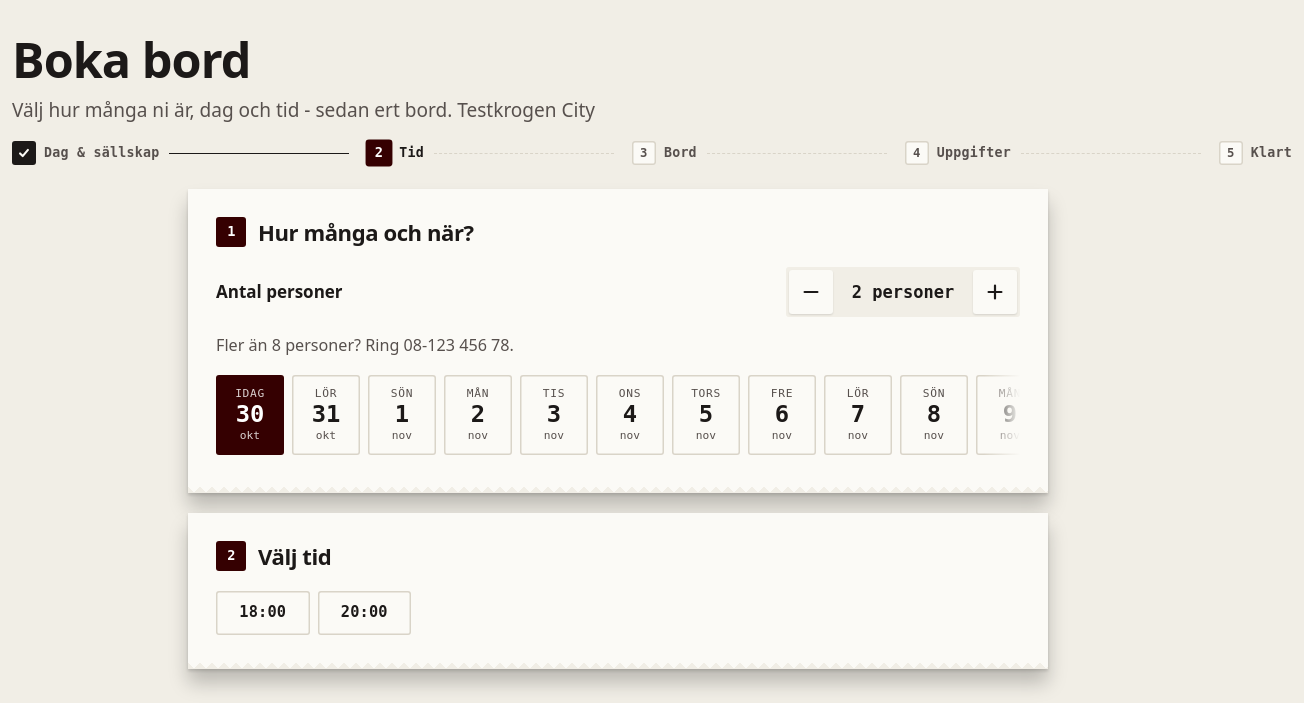
Test: BokaBordPage › asks to pick again when the table was just taken, with fresh availability
Select "3 personer" in the dropdown labelled "Antal personer" at (903, 292), box [839,270,967,314]
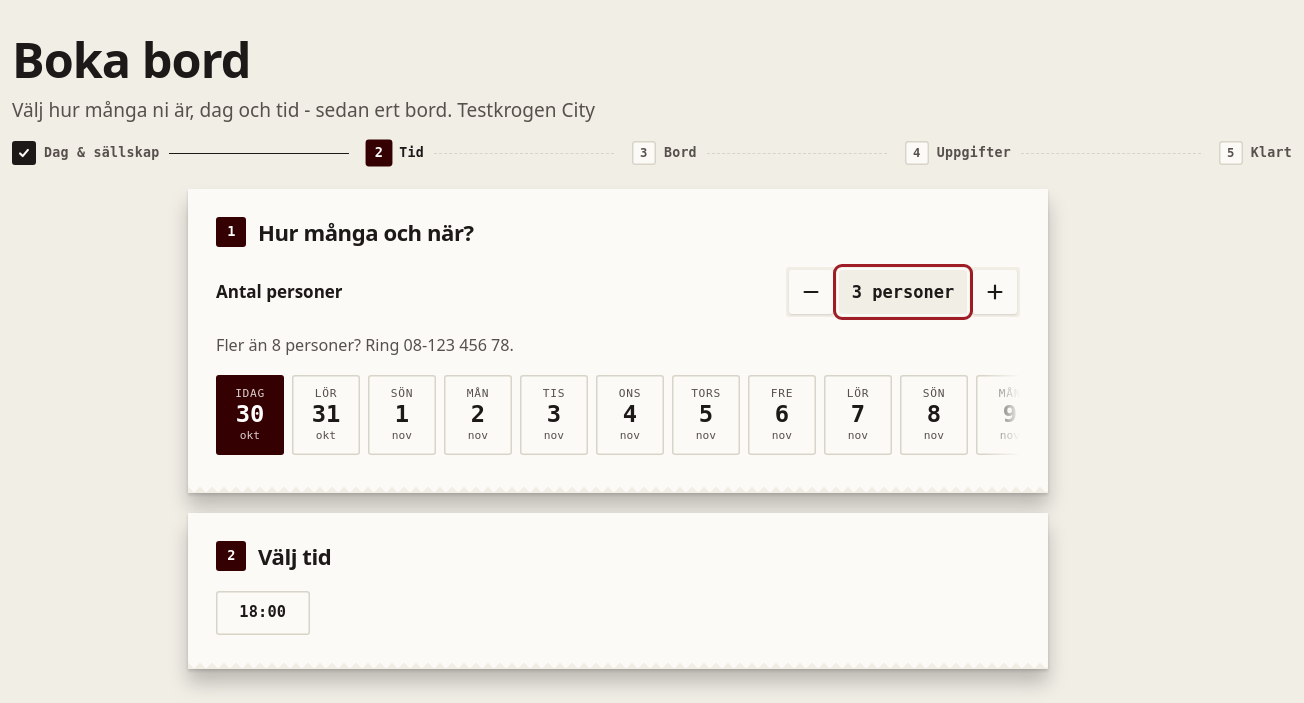
Click the button "18:00" at (263, 613), box [216,591,310,635]
(page scrolled)
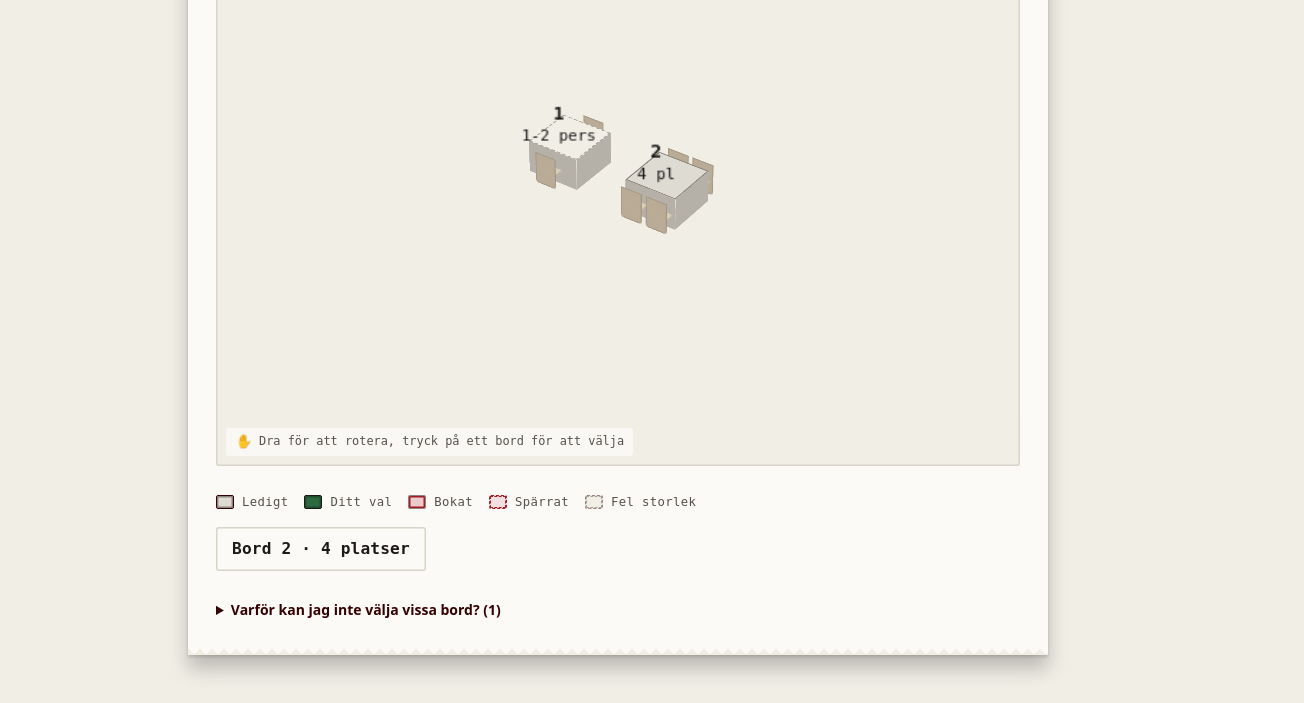
Click the button "Bord 2 · 4 platser" at (321, 549), box [216,527,426,571]
(page scrolled)
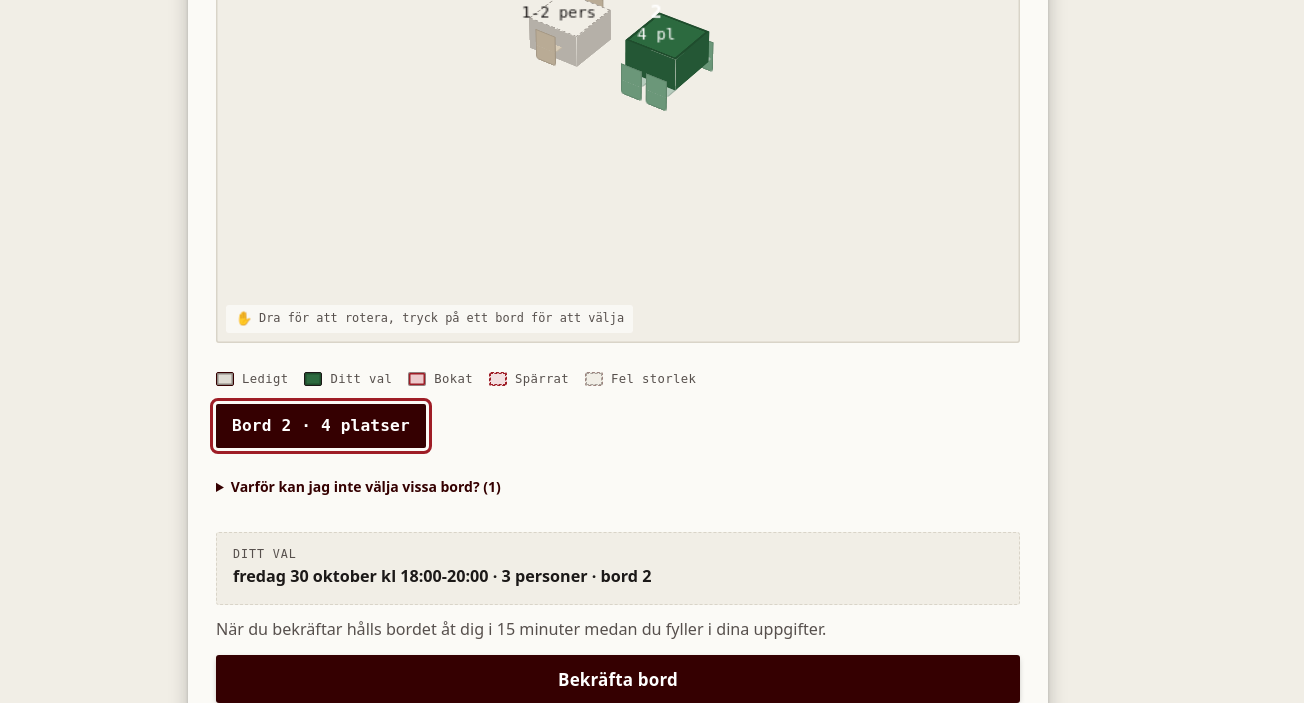
Click the button "Bekräfta bord" at (618, 679), box [216,655,1020,702]
(page scrolled)
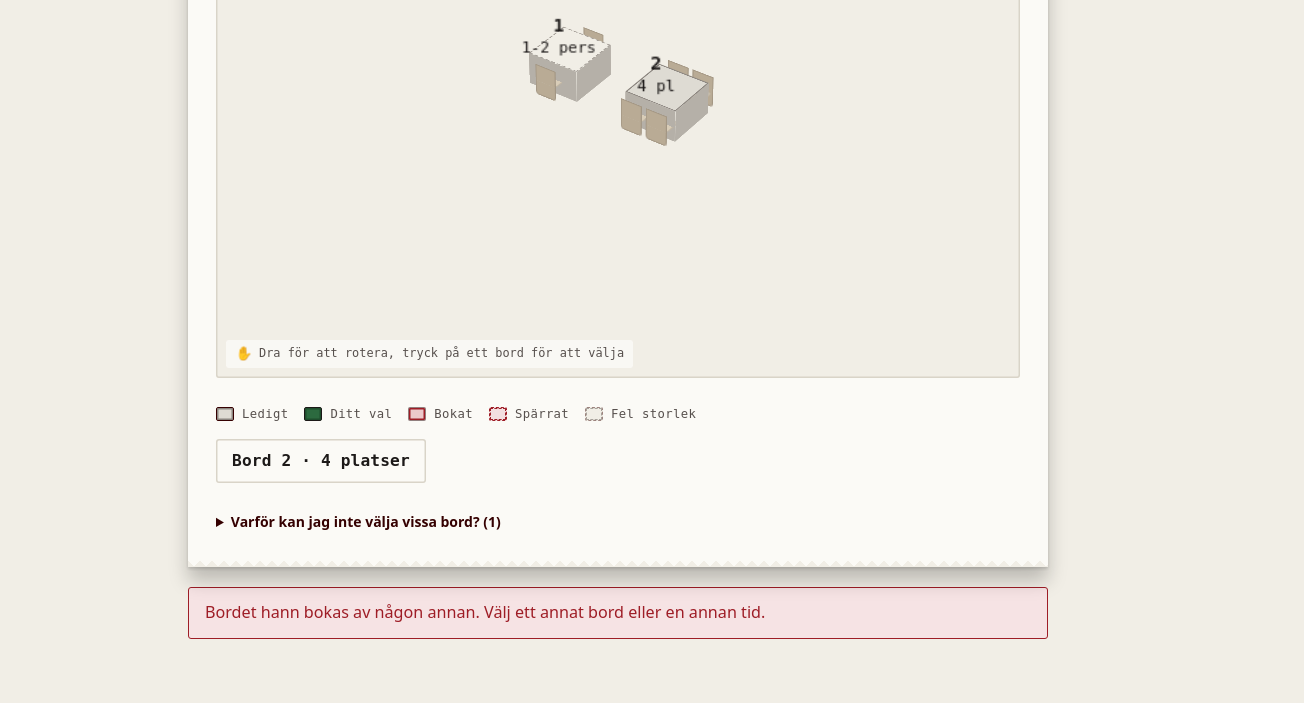
expect the message shows "hann bokas av någon annan": met, box [205,601,765,623]
